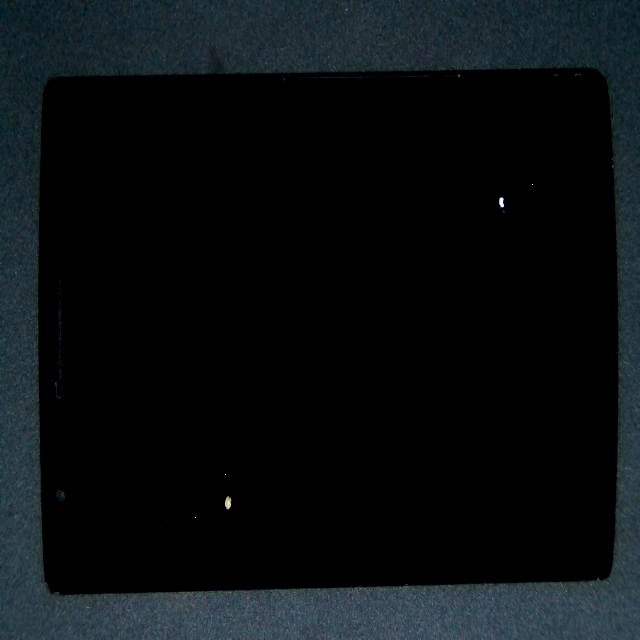stain: (237, 127, 640, 381), (94, 274, 282, 640)
